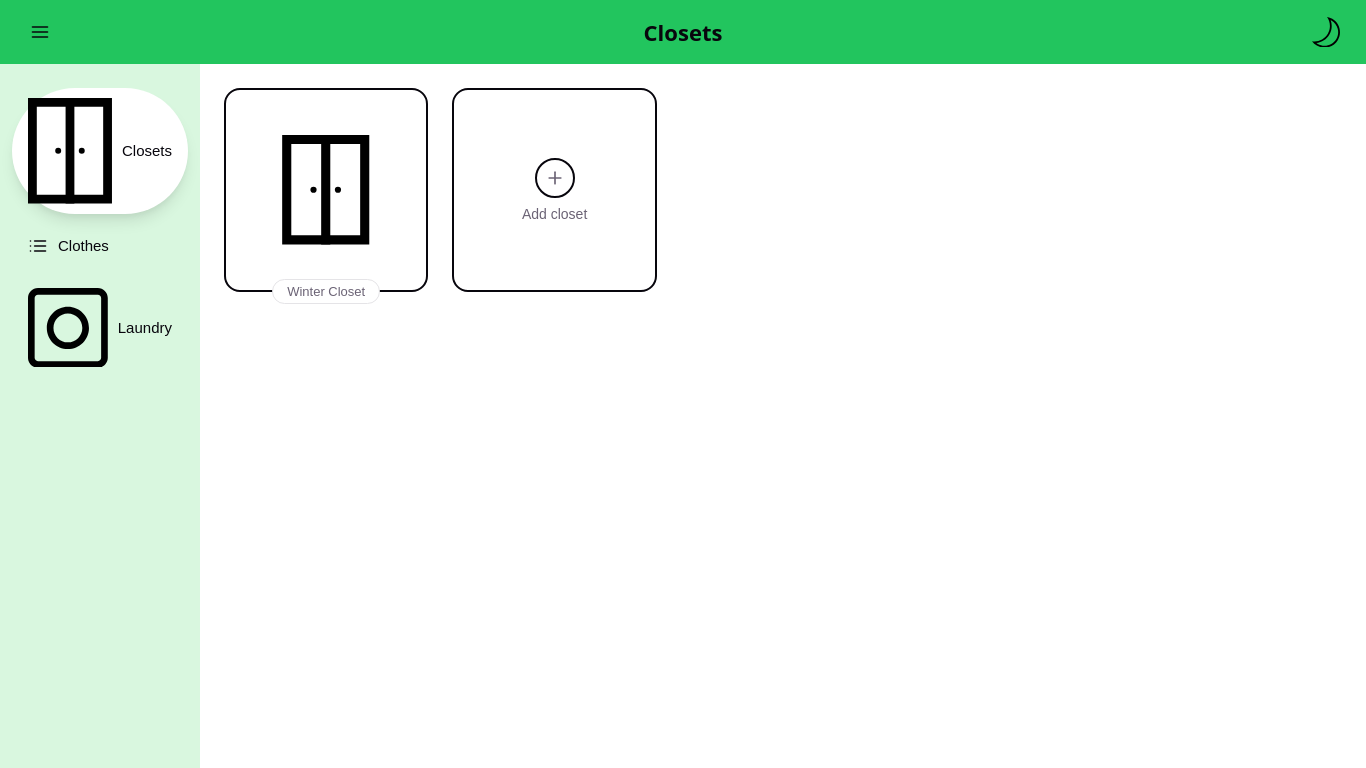
Test: App navigation › selecting a closet shows its own detail view, not the global Clothes view
Click the button "Winter Closet": (326, 190) [224,88,428,292]
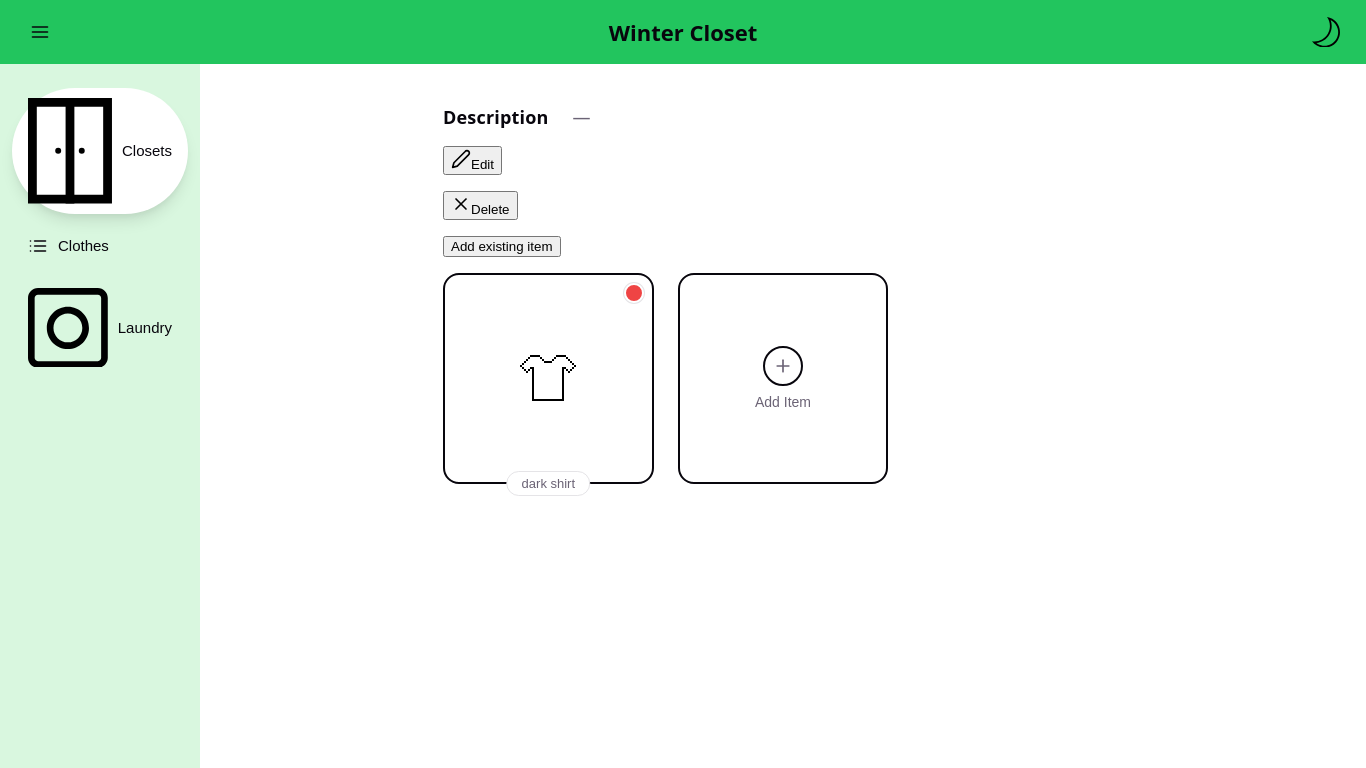
Now the heading "Winter Closet" is shown, box [609,17,757,47]
